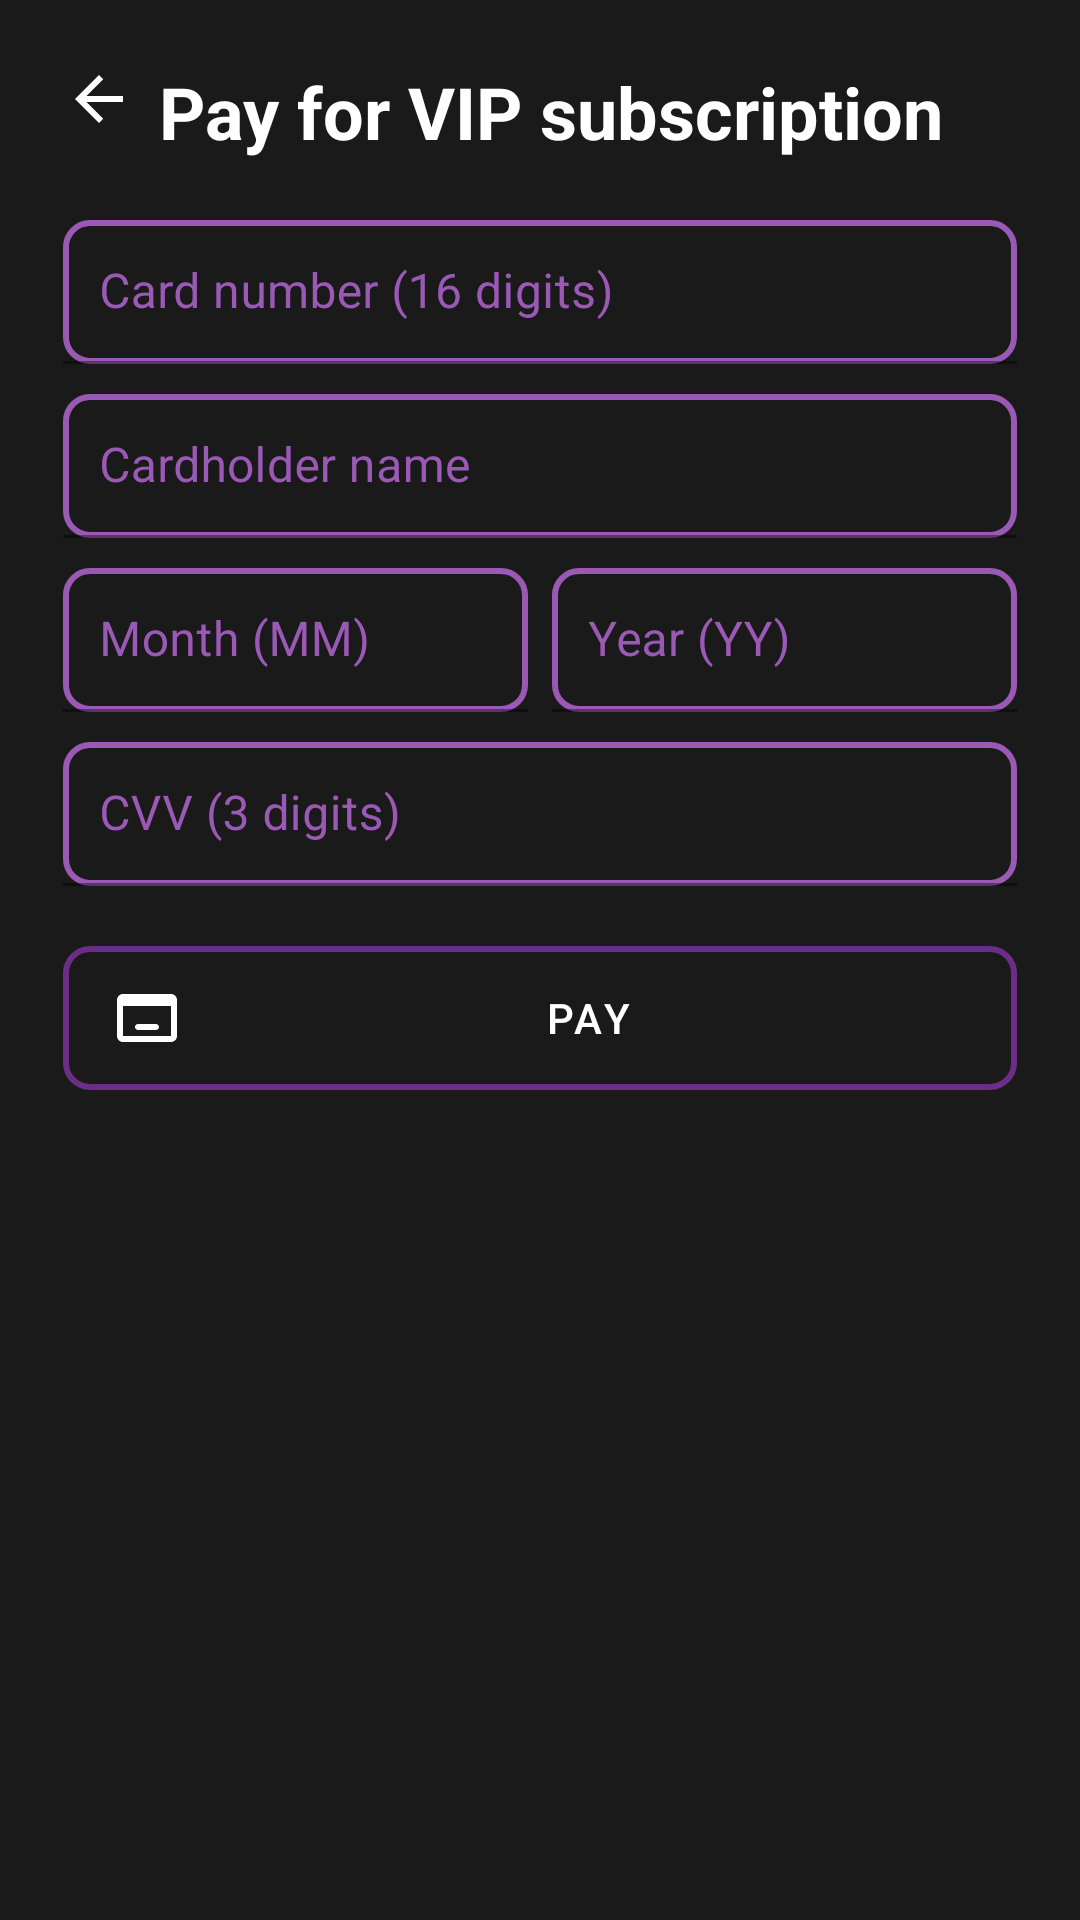

Icons on this 1080w x 1920h Android screen, each with its box as (x1, y1, x2, y2):
Back: (75, 75, 123, 123)
